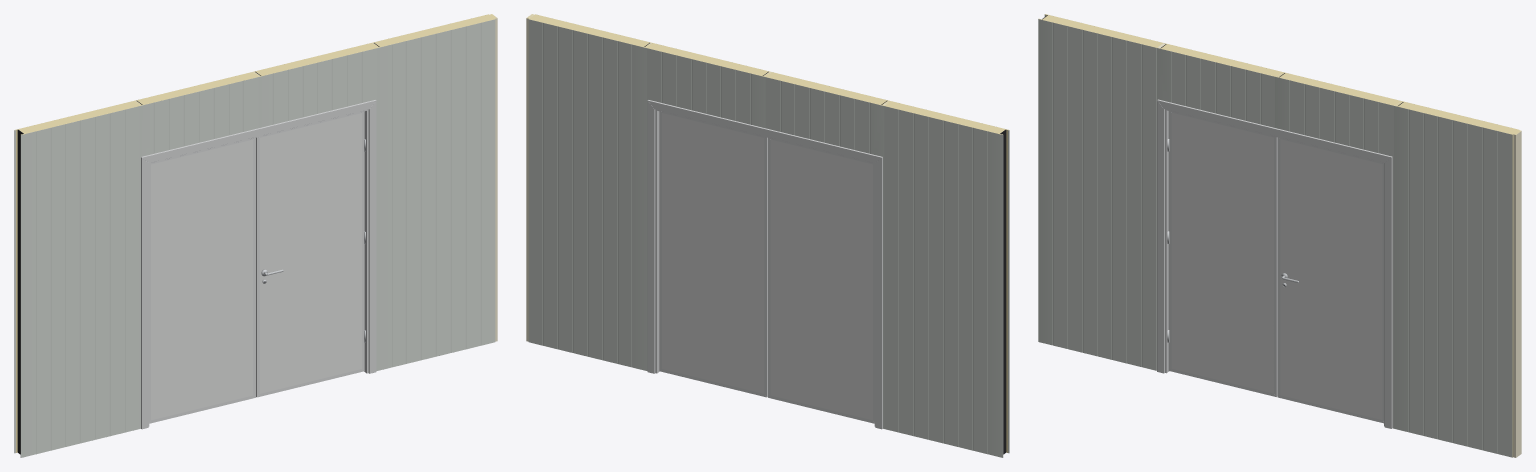
Rendered from office-double-6x7.glb.
The picture shows the model from 3 angles, left to right: view 1: azimuth 30°, elevation 25°; view 2: azimuth 150°, elevation 25°; view 3: azimuth 330°, elevation 25°; orthographic projection.
Visible parts, largest first — view 1: Wall_p0_Steel_top, Wall_p3_Steel_top, SkinF.001, SkinF, Wall_p1_Steel_top, Wall_p2_Steel_top, TrimF_R, TrimF_L, TrimF_T, Wall_p0_PIR_core, Wall_p0_Gasket, LinerR (+10 smaller); view 2: Wall_p0_Steel_bottom, Wall_p3_Steel_bottom, SkinB, SkinB.001, Wall_p1_Steel_bottom, Wall_p2_Steel_bottom, TrimB_R, TrimB_L, TrimB_T, Wall_p0_PIR_core, LinerR, Wall_p0_Gasket (+10 smaller); view 3: Wall_p3_Steel_top, Wall_p0_Steel_top, SkinF.001, SkinF, Wall_p2_Steel_top, Wall_p1_Steel_top, Wall_p3_Tongue_tape, TrimF_R, TrimF_L, TrimF_T, Wall_p3_PIR_core, AluF_L (+8 smaller).
Part boxes in pixels (bbox=[...]): Wall_p0_Steel_top: bbox=[20, 106, 139, 457]; Wall_p3_Steel_top: bbox=[377, 19, 495, 370]; SkinF.001: bbox=[151, 139, 253, 420]; SkinF: bbox=[259, 113, 361, 393]; Wall_p1_Steel_top: bbox=[139, 77, 258, 428]; Wall_p2_Steel_top: bbox=[258, 48, 376, 371]; TrimF_R: bbox=[368, 101, 376, 373]; TrimF_L: bbox=[141, 157, 148, 429]; TrimF_T: bbox=[141, 100, 375, 162]; Wall_p0_PIR_core: bbox=[14, 101, 141, 452]; Wall_p0_Gasket: bbox=[17, 129, 23, 454]; LinerR: bbox=[364, 110, 368, 373]; Wall_p0_Steel_bottom: bbox=[884, 106, 1003, 457]; Wall_p3_Steel_bottom: bbox=[528, 19, 646, 370]; SkinB: bbox=[662, 113, 764, 393]; SkinB.001: bbox=[770, 139, 872, 420]; Wall_p1_Steel_bottom: bbox=[765, 77, 884, 428]; Wall_p2_Steel_bottom: bbox=[647, 48, 765, 371]; TrimB_R: bbox=[647, 101, 655, 373]; TrimB_L: bbox=[875, 157, 882, 429]; TrimB_T: bbox=[648, 100, 882, 162]; Wall_p0_PIR_core: bbox=[882, 101, 1009, 452]; LinerR: bbox=[655, 110, 659, 373]; Wall_p0_Gasket: bbox=[1000, 129, 1006, 454]; Wall_p3_Steel_top: bbox=[1394, 105, 1512, 457]; Wall_p0_Steel_top: bbox=[1038, 19, 1156, 370]; SkinF.001: bbox=[1171, 113, 1273, 393]; SkinF: bbox=[1280, 139, 1382, 419]; Wall_p2_Steel_top: bbox=[1275, 77, 1393, 428]; Wall_p1_Steel_top: bbox=[1157, 48, 1275, 127]; Wall_p3_Tongue_tape: bbox=[1513, 131, 1521, 457]; TrimF_R: bbox=[1384, 157, 1392, 428]; TrimF_L: bbox=[1157, 100, 1164, 373]; TrimF_T: bbox=[1157, 99, 1391, 162]; Wall_p3_PIR_core: bbox=[1394, 101, 1521, 457]; AluF_L: bbox=[1277, 137, 1280, 396].
Bounding box in the file's own units: 4.02 × 2.6 × 0.133.
